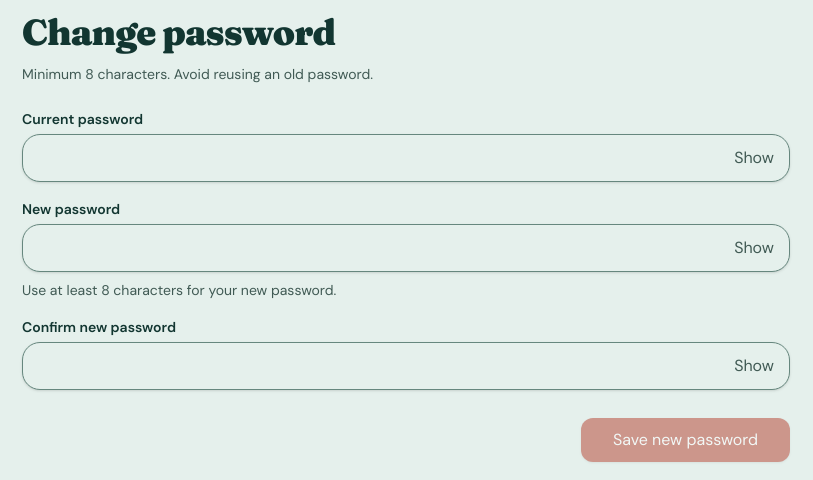
Test: ChangePassword › locks the submit action while the password request is pending
This screenshot has width=813, height=480.
In the password field labelled "Current password": {"x": 406, "y": 158} [22,134,790,182], type "old-password"
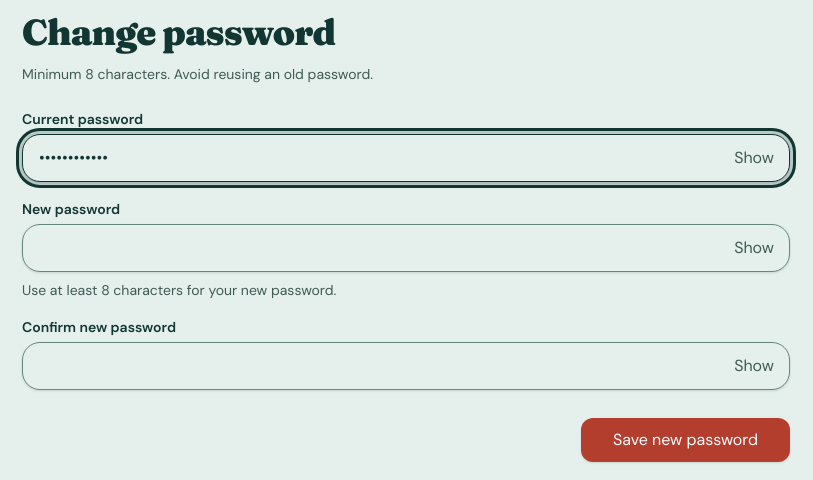
In the password field labelled "New password": {"x": 406, "y": 248} [22,224,790,272], type "new-password"
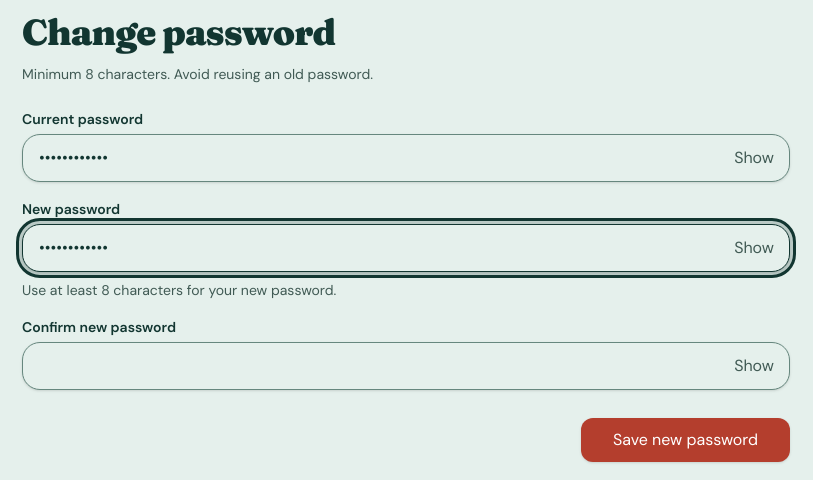
In the password field labelled "Confirm new password": {"x": 406, "y": 366} [22,342,790,390], type "new-password"
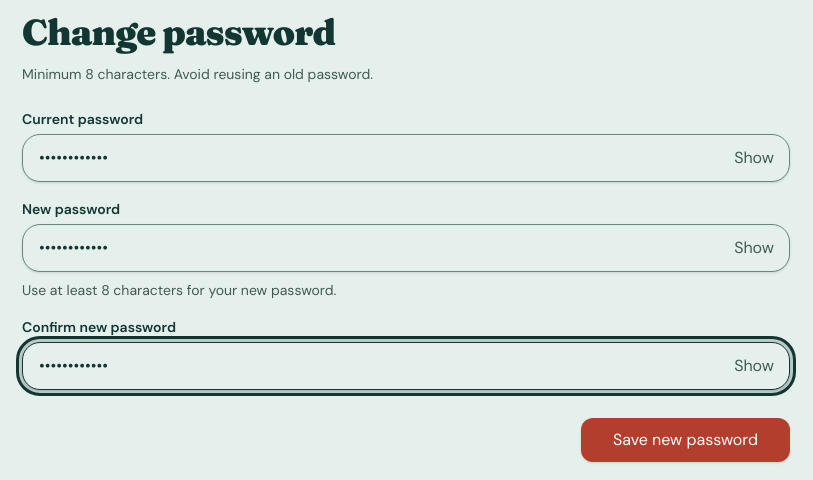
Click the button "Save new password": {"x": 686, "y": 440} [581,418,790,462]
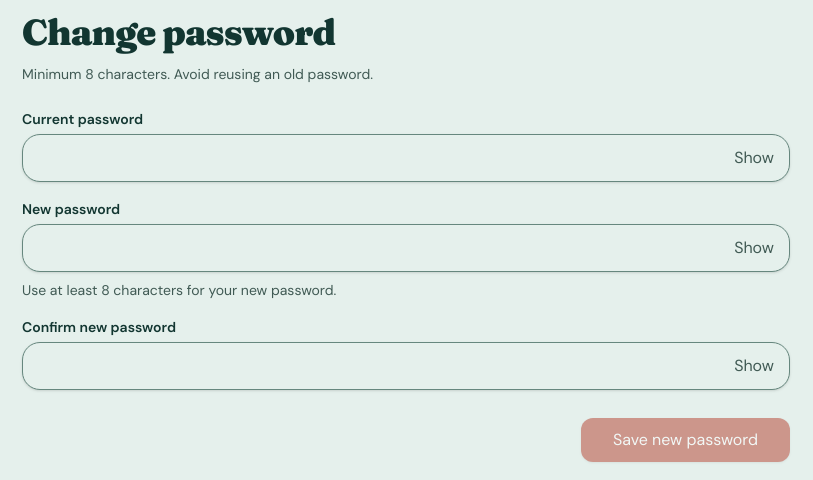
Expected: the button named "Saving…" is disabled, [581,418,790,462]
Expected: the button "Save new password" is disabled, [581,418,790,462]
